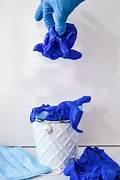Glove: (35, 0, 84, 35)
